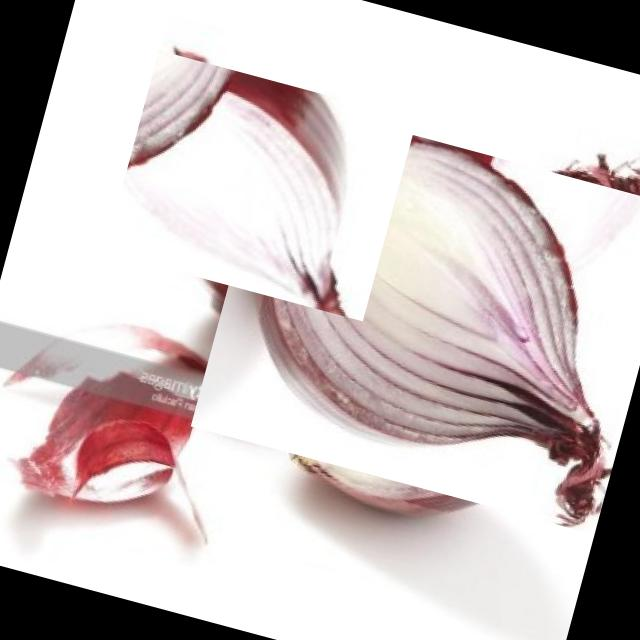Onion: (210, 78, 640, 560), (104, 49, 417, 321)
